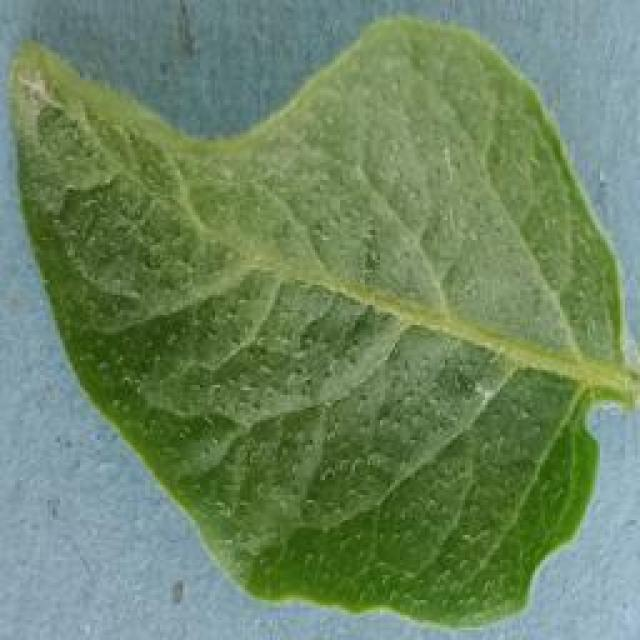Potato_Healthy: (0, 10, 628, 638)
